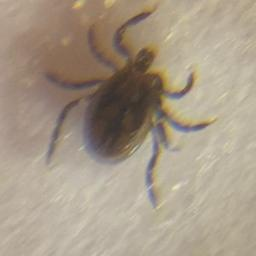Ixodes scapularis: (44, 5, 218, 208)
